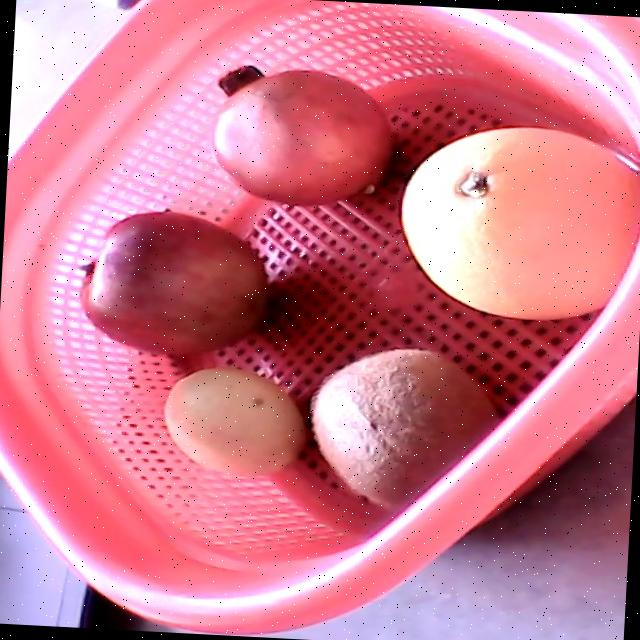apple: (79, 210, 268, 355)
kiwi: (309, 347, 499, 517)
lemon: (165, 369, 306, 478)
orange: (402, 126, 640, 319)
pomegranate: (212, 65, 393, 204)
